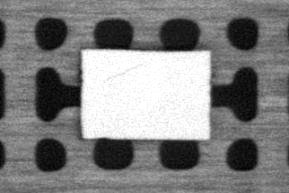DIE_CRACK: (105, 62, 146, 80)
